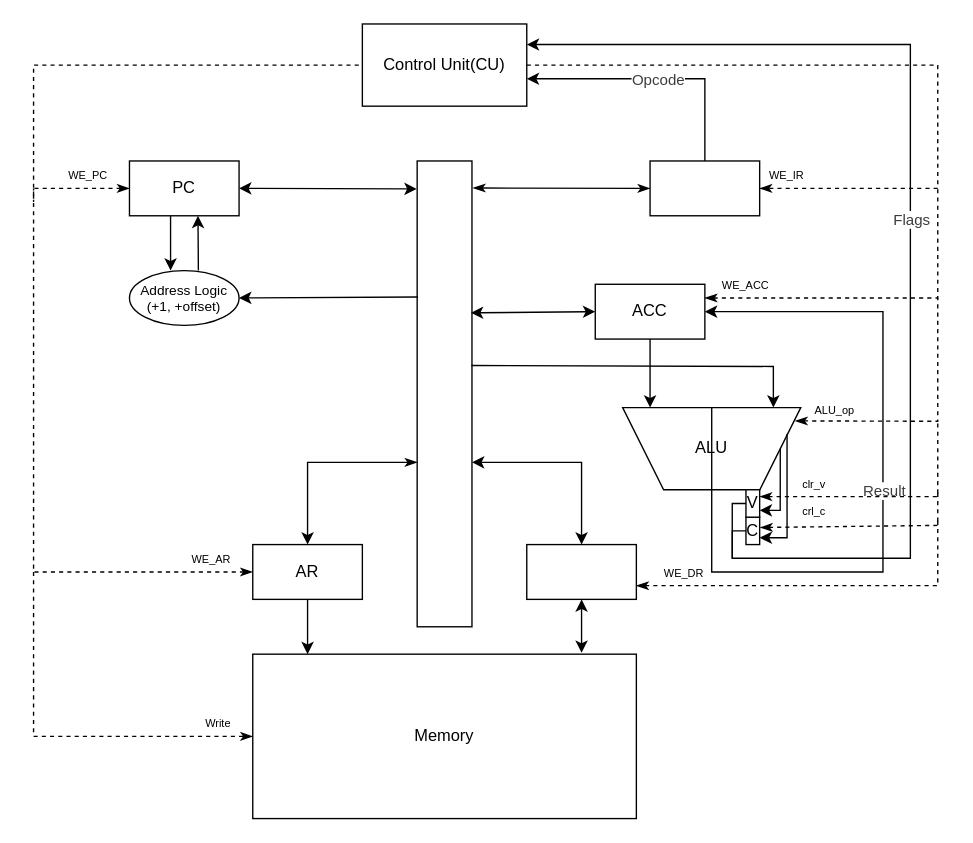
Some shapes in this 973 by 843 pixel diagram are drawn without their labels. Each missing label, with the centre of its shape:
"DR" goes at point 580,571.
"IR" goes at point 704,188.
"Системная шина(System Bus 32-bit)" goes at point 444,393.
